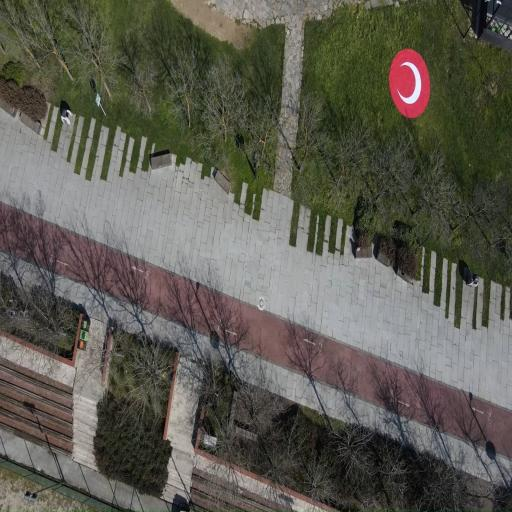UAP: (389, 49, 430, 118)
